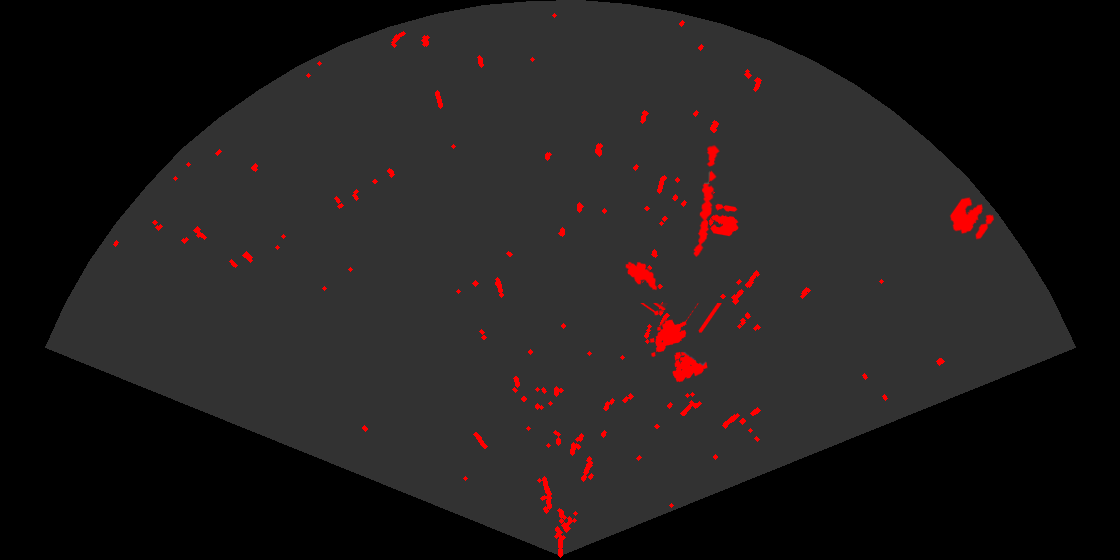AUV: (624, 260, 659, 292)
ball: (948, 196, 996, 241), (708, 202, 740, 238)
cage: (639, 303, 723, 384)
chain: (692, 143, 721, 259)
